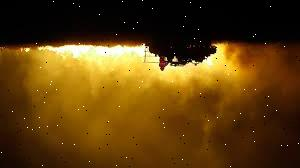fire: (18, 41, 144, 62)
